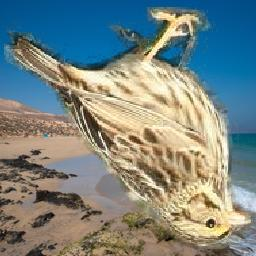Sparrow: (5, 7, 252, 249)
